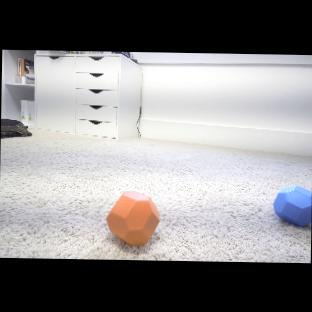V5_BLUE: (273, 185, 312, 227)
V5_RED: (106, 191, 159, 245)
